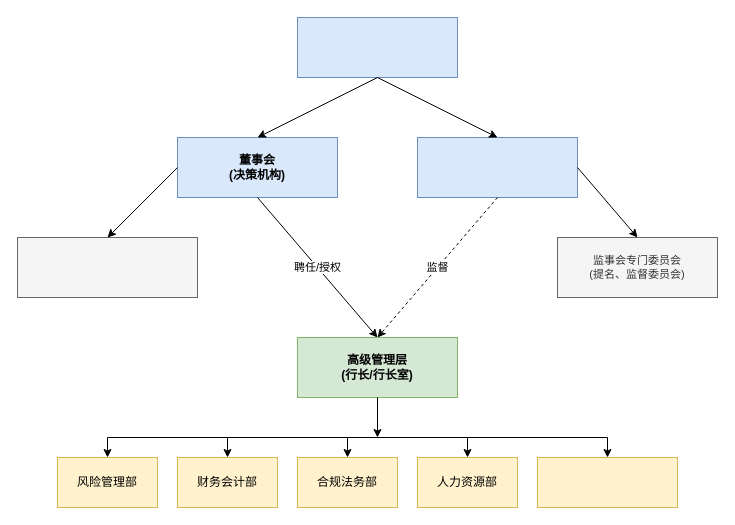
The diagram is 735 pixels wide and 525 high, and some of its shapes have lost their labels. Here are the shapes that lost their labels. From the top down, the box of each, then its label:
(296, 16, 458, 78): 股东大会 （最高权力机构）
(416, 136, 578, 198): 监事会 (监督机构)
(16, 236, 198, 298): 董事会专门委员会 (战略、审计、风险、提名、薪酬等)
(536, 456, 678, 508): 业务部门 (对公/零售/金融市场)
